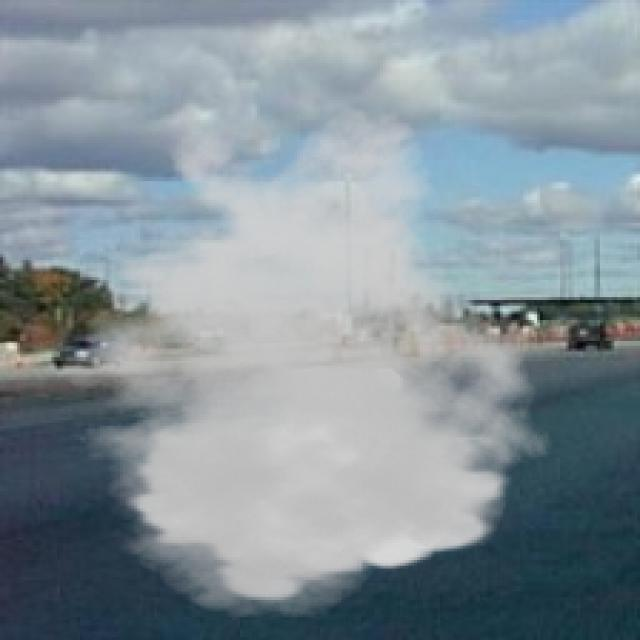smoke: (26, 106, 560, 620)
